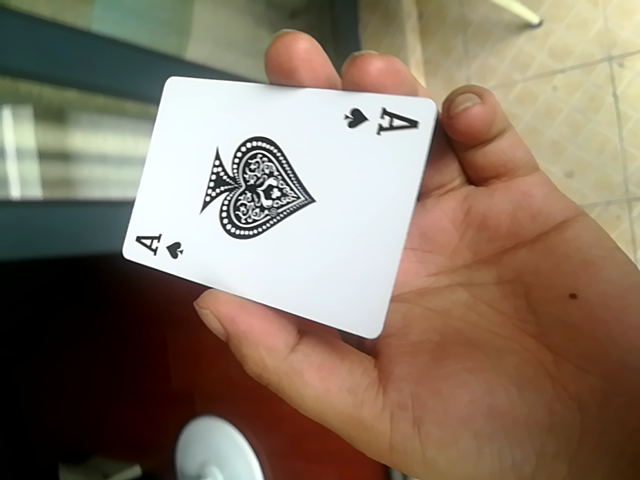ht a: (118, 69, 437, 343)
